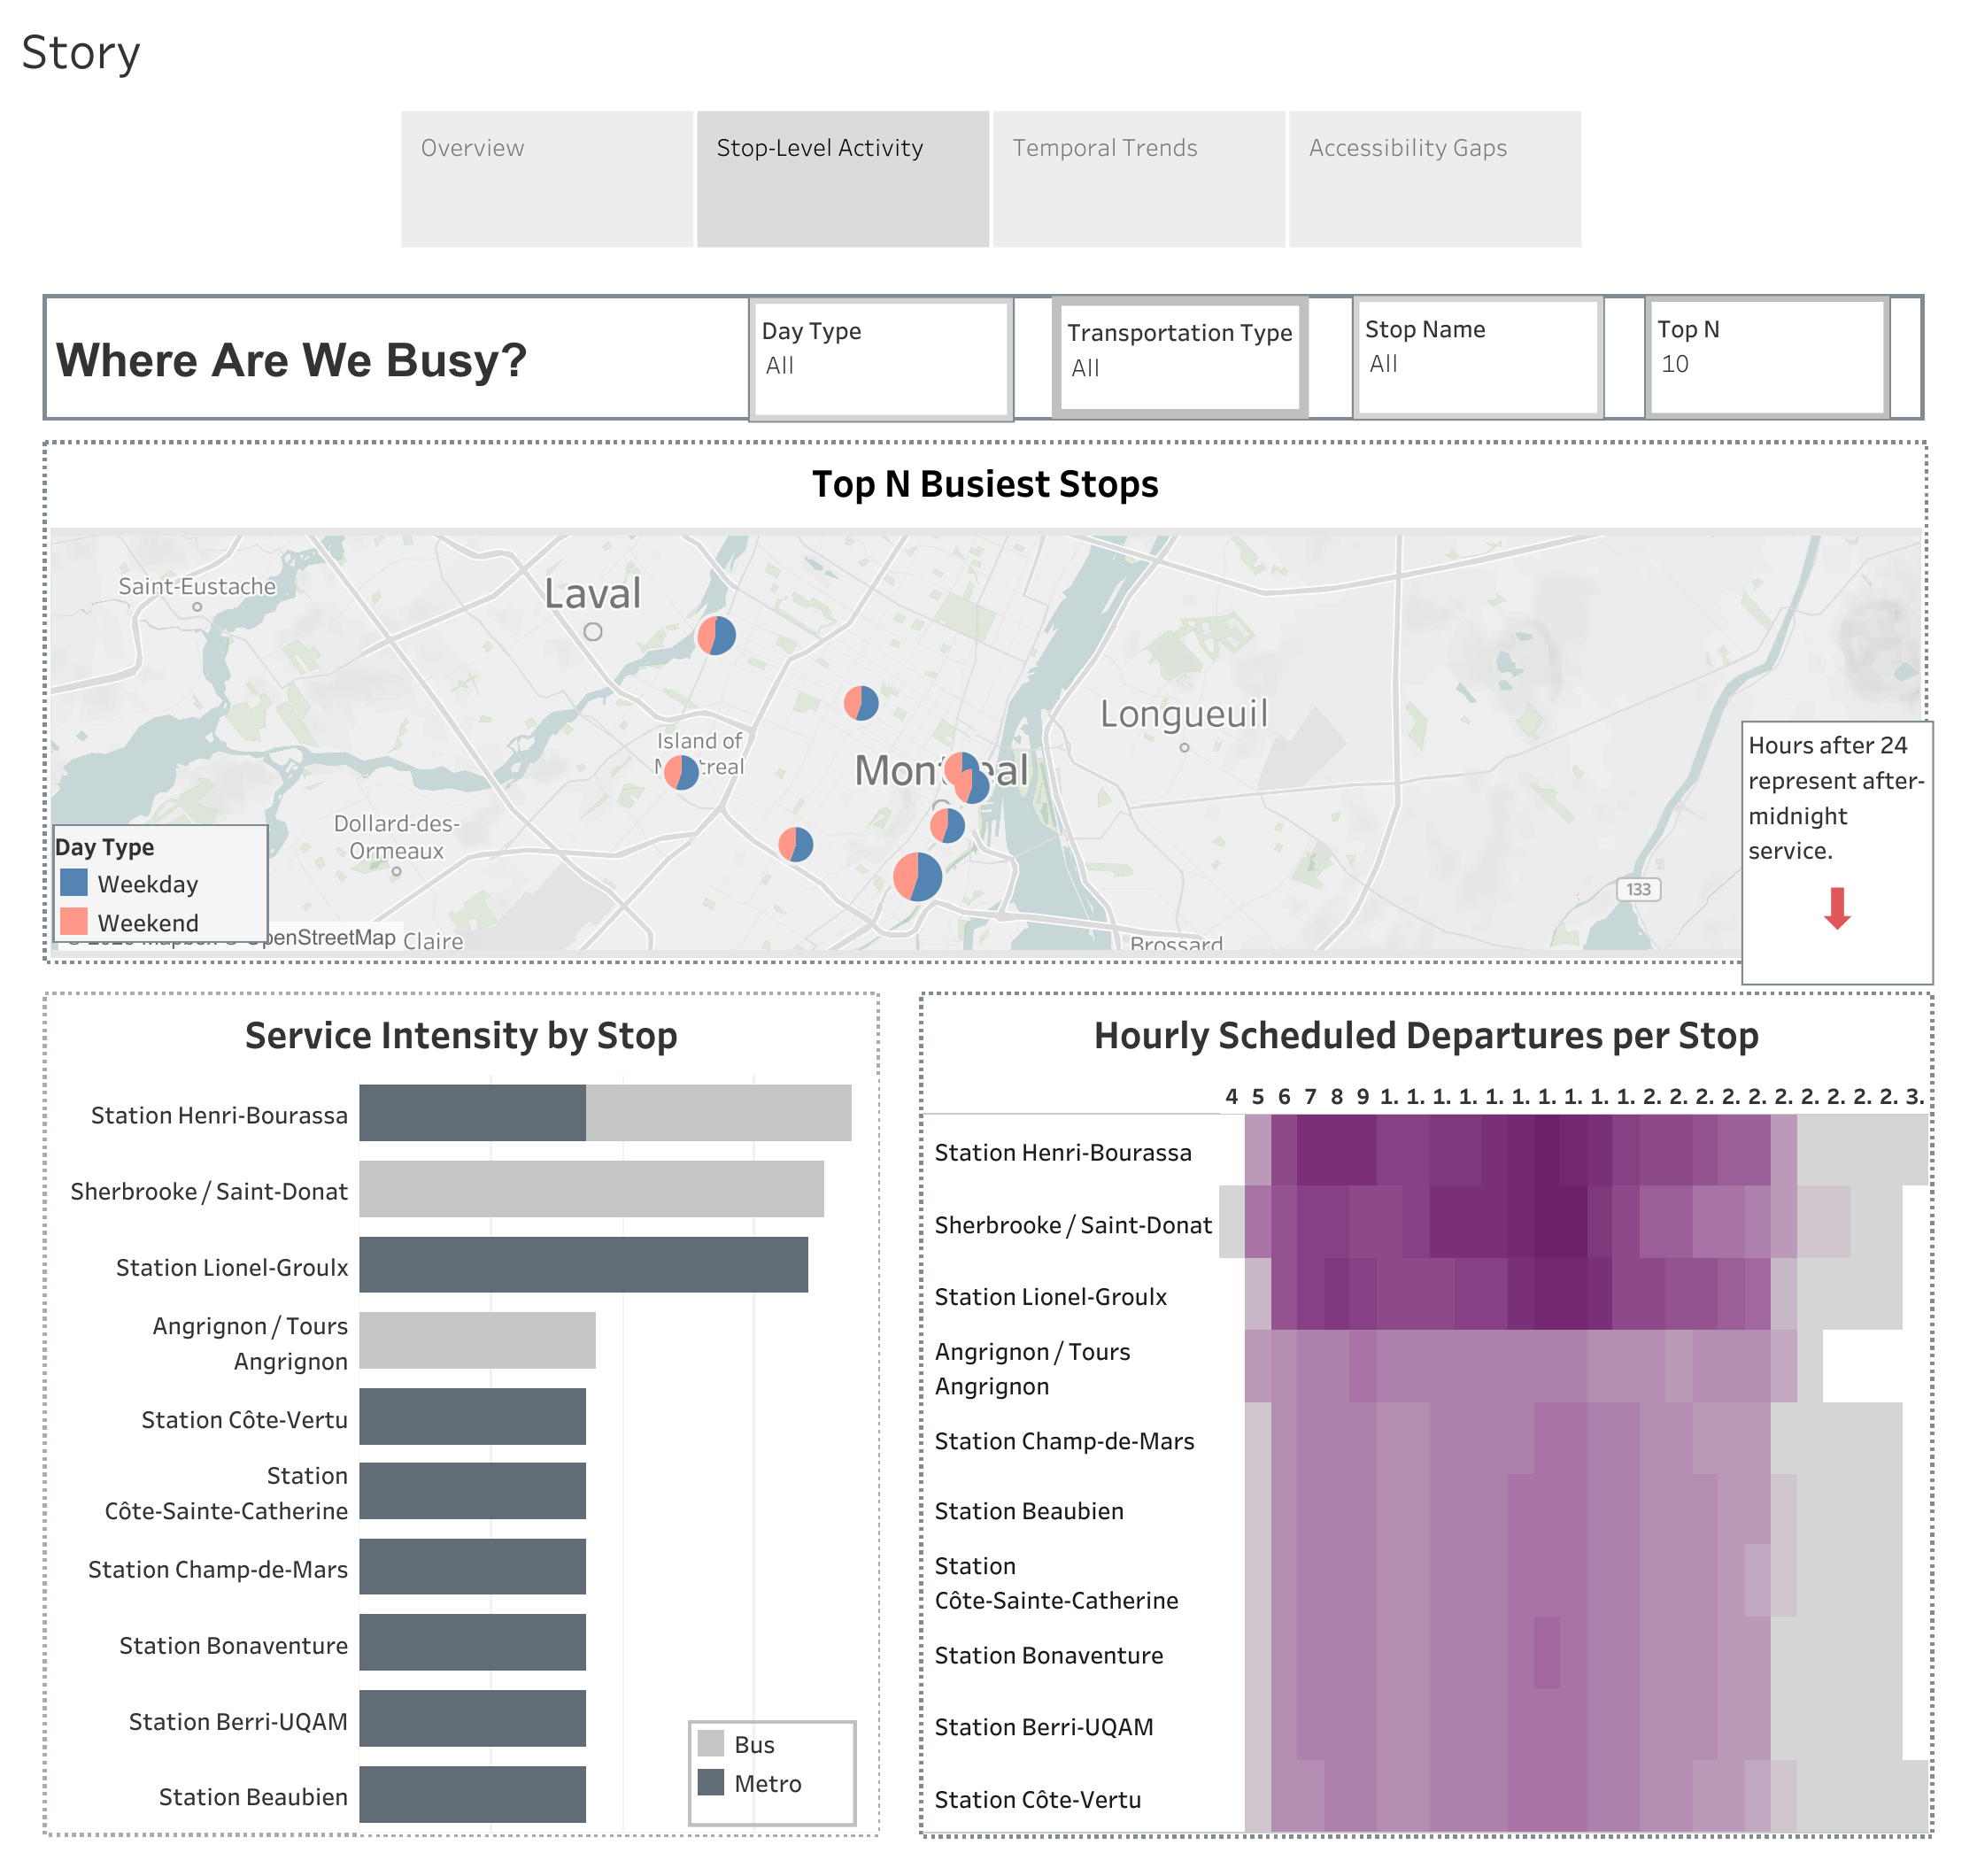

This screenshot's page, from the dashboard's own definition file:
{"tool":"tableau","page":{"name":"Stop-Level Activity","canvas":[1000,1000],"units":"permille","ordinal":2},"visuals":[{"type":"filter","title":"Hourly Departures per Stop","param":"[federated.0f4jjsb0i0oyep11vr2by00n93gf].[none:stop_name:nk]","box":[685.5,9.9,130.5,79.3]},{"type":"parameter","param":"[Parameters].[Parameter 1]","box":[835.7,9.9,127.4,79.3]},{"type":"filter","title":"Hourly Departures per Stop","param":"[federated.0f4jjsb0i0oyep11vr2by00n93gf].[none:Calculation_6791780142633451521:n","box":[375.8,11.2,136.8,79.3]},{"type":"filter","title":"Service Intensity by Stop","param":"[federated.0f4jjsb0i0oyep11vr2by00n93gf].[none:Calculation_6791780142825332740:n","box":[532.2,11.2,132.1,76.8]},{"type":"text","box":[18.1,19.8,342.8,63.2]},{"type":"worksheet","title":"Stop Map","mark":"Pie","rows":["stop_lat"],"cols":["stop_lon"],"box":[6.3,90.5,987.4,354.4]},{"type":"text","box":[886.3,278.8,98.9,167.3]},{"type":"legend","title":"Stop Map","param":"[federated.0f4jjsb0i0oyep11vr2by00n93gf].[none:Calculation_6791780142633451521:n","box":[18.9,344.5,110.9,79.3]},{"type":"worksheet","title":"Service Intensity by Stop","mark":"Automatic","rows":["stop_name"],"cols":["Calculation_6791780142639681538"],"box":[6.3,444.8,346.7,545.3]},{"type":"worksheet","title":"Hourly Departures per Stop","mark":"Square","rows":["stop_name"],"cols":["hour"],"box":[353,444.8,640.6,545.3]},{"type":"legend","title":"Service Intensity by Stop","param":"[federated.0f4jjsb0i0oyep11vr2by00n93gf].[none:Calculation_6791780142825332740:n","box":[345.1,910.8,86.5,66.9]}]}

Visuals, with their boxes on the dashboard's canvas, which has no fixed pixel size, in thousandths of its width and height (x1, y1, x2, y2). These are canvas units, not pixel positions in the 1977x1876 screenshot, which may show the page scaled, cropped or inside an application window:
"Hourly Departures per Stop" filter: x1=686, y1=10, x2=816, y2=89
parameter: x1=836, y1=10, x2=963, y2=89
"Hourly Departures per Stop" filter: x1=376, y1=11, x2=513, y2=90
"Service Intensity by Stop" filter: x1=532, y1=11, x2=664, y2=88
text: x1=18, y1=20, x2=361, y2=83
"Stop Map" worksheet (Pie marks): x1=6, y1=90, x2=994, y2=445
text: x1=886, y1=279, x2=985, y2=446
"Stop Map" legend: x1=19, y1=344, x2=130, y2=424
"Service Intensity by Stop" worksheet: x1=6, y1=445, x2=353, y2=990
"Hourly Departures per Stop" worksheet (Square marks): x1=353, y1=445, x2=994, y2=990
"Service Intensity by Stop" legend: x1=345, y1=911, x2=432, y2=978
